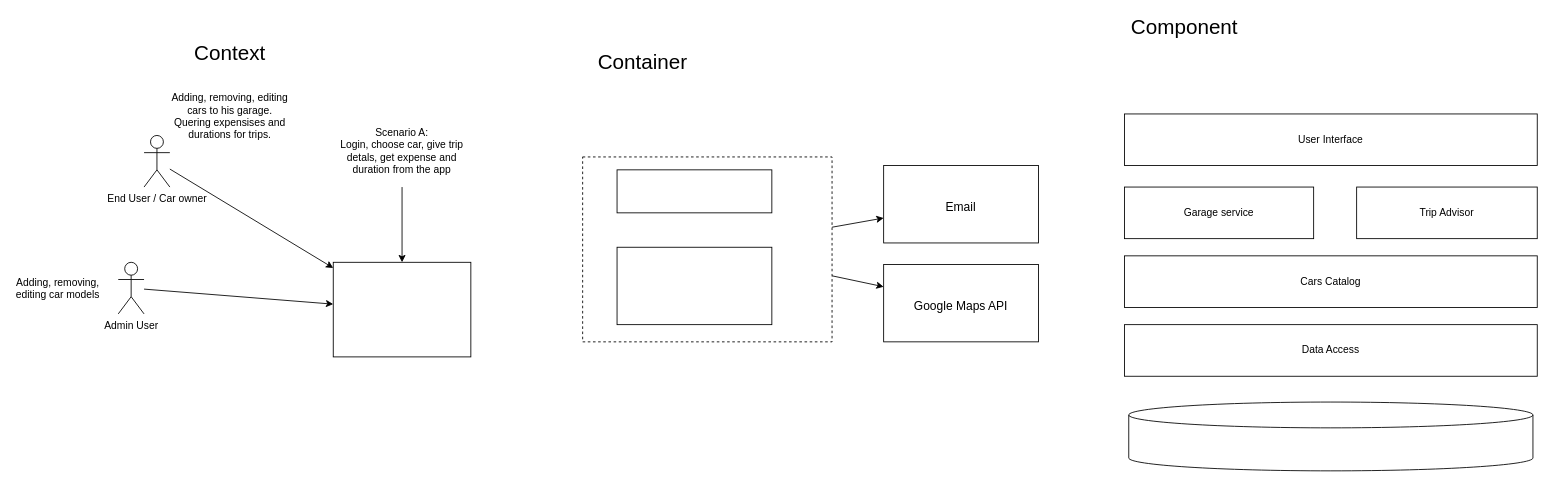
Image size: 1552x486. Some labels were removed from this diagram. The centre of each missing label's shape, as x and y in pixels:
"DB" belongs at point (1330, 436).
"Garage application" belongs at point (401, 309).
"My Garage App" belongs at point (694, 285).
"Web Application" belongs at point (694, 191).
